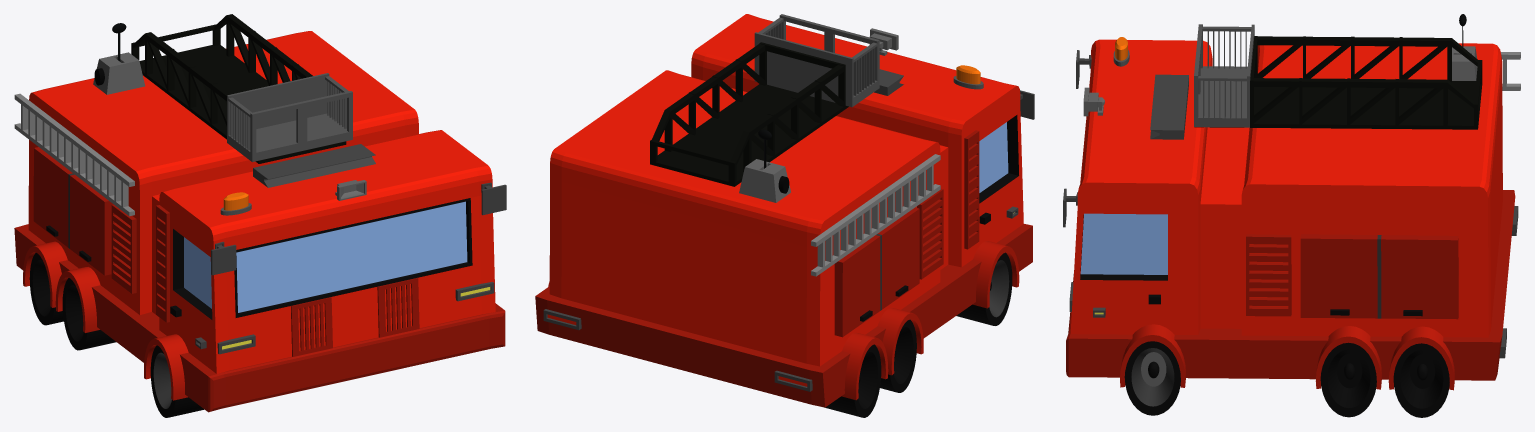
Rendered from cartoon_fire_truck2.glb.
The picture shows the model from 3 angles, left to right: view 1: azimuth 30°, elevation 25°; view 2: azimuth 150°, elevation 25°; view 3: azimuth 270°, elevation 25°; orthographic projection. The views are drawn at different scales.
Parts seen in each view (by area): view 1: Cube_0; view 2: Cube_0; view 3: Cube_0.
Part boxes in pixels (x1,y1,x2,y2): Cube_0: (14, 14, 506, 417); Cube_0: (535, 14, 1034, 417); Cube_0: (1063, 14, 1520, 417).
Bounding box in the file's own units: 2.4 × 1.95 × 2.78.
1 material, 1 textured.
